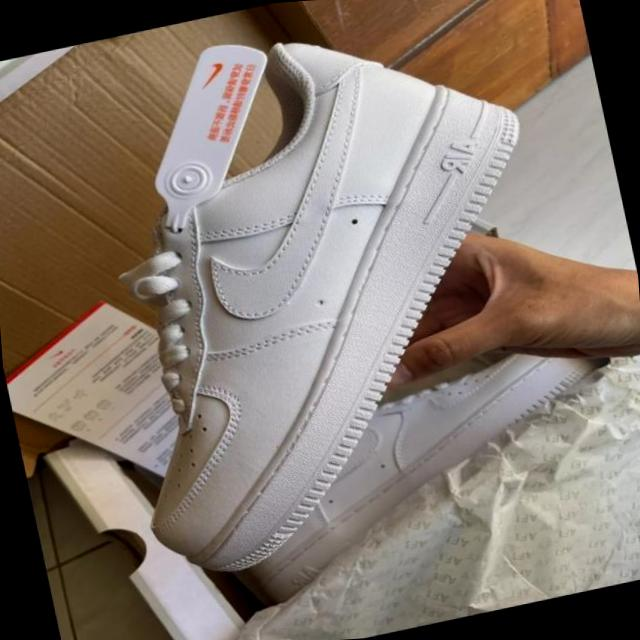nike_original_airforce: (51, 0, 608, 591)
